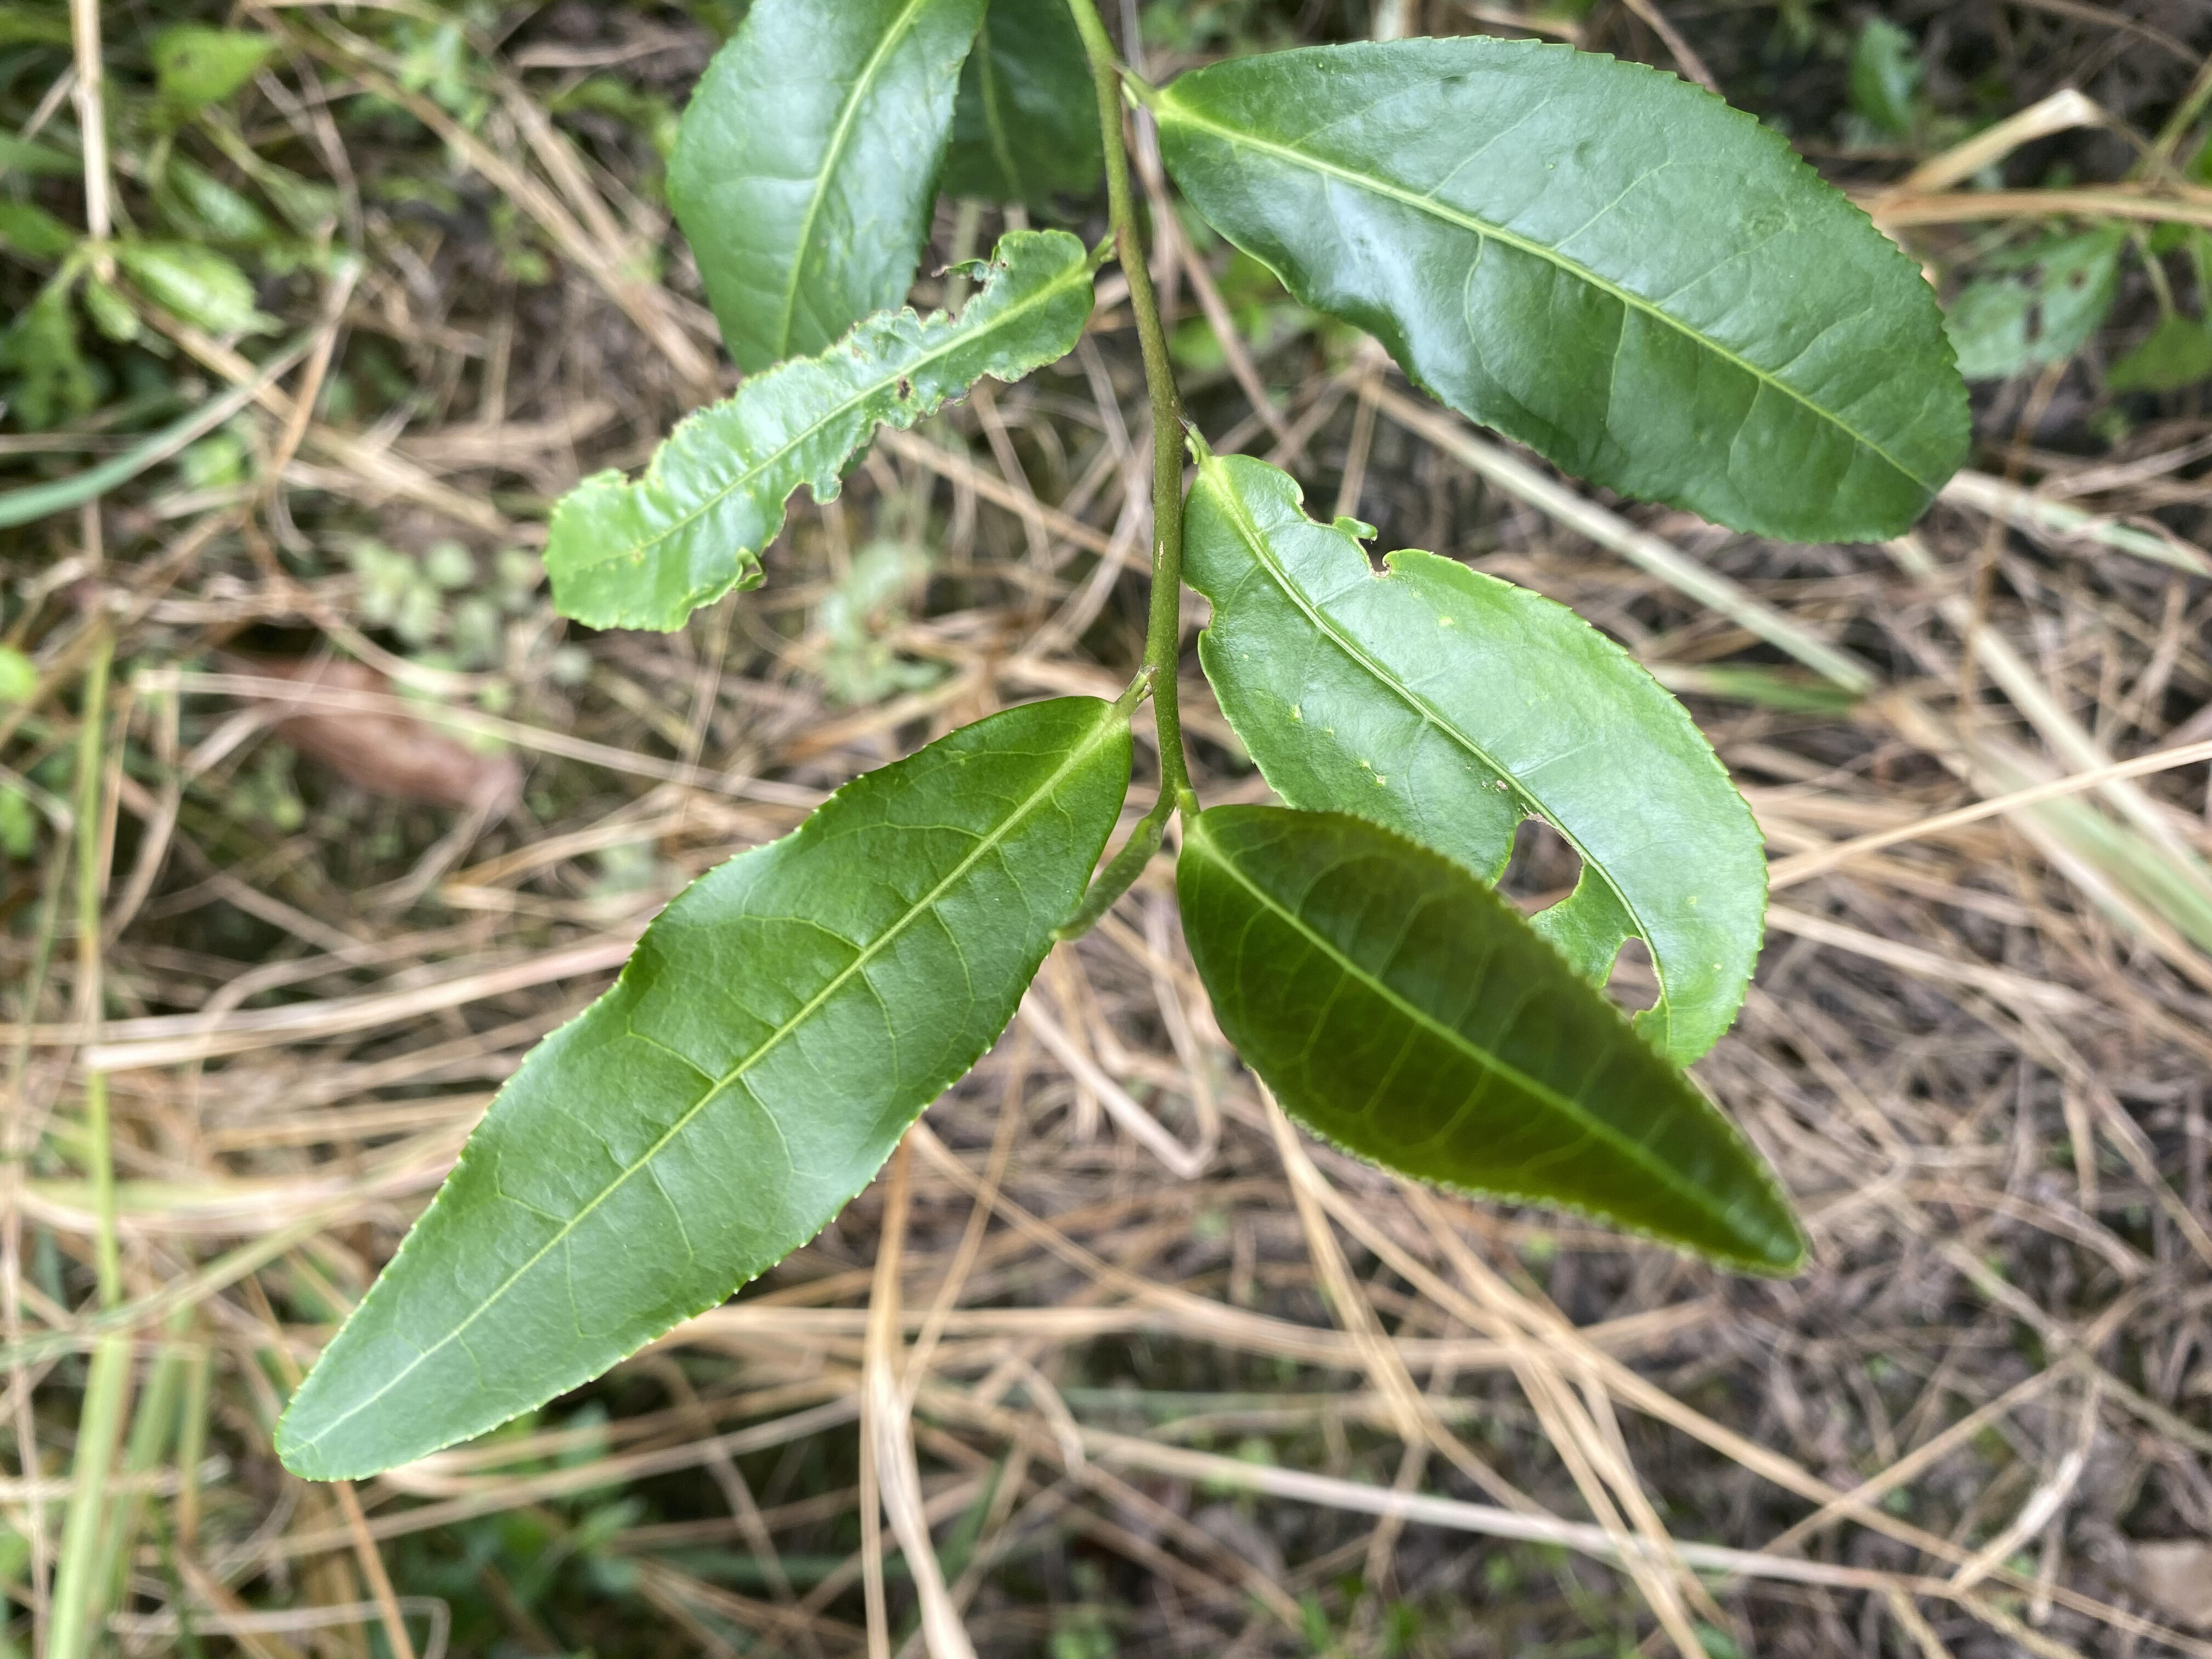chihuo_high: (1181, 455, 1773, 1070), (536, 228, 1101, 636)
healthy: (273, 694, 1136, 1478), (1153, 33, 1979, 549), (1177, 802, 1799, 1276), (667, 2, 981, 364)
